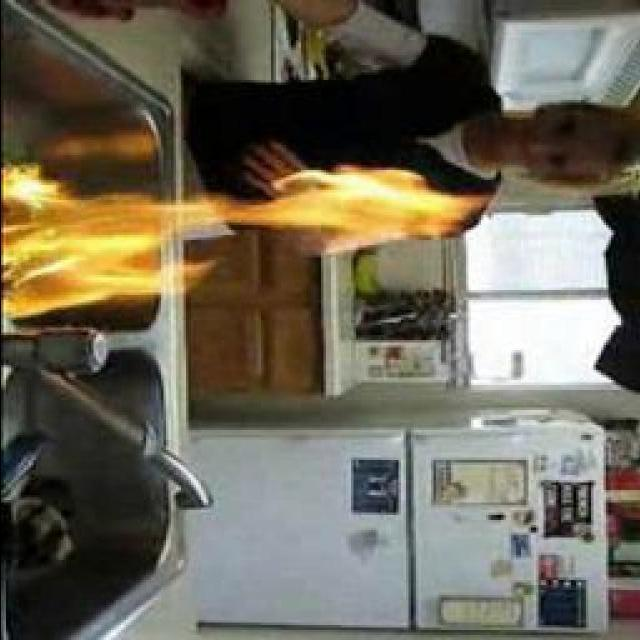Fire: (0, 164, 487, 318)
